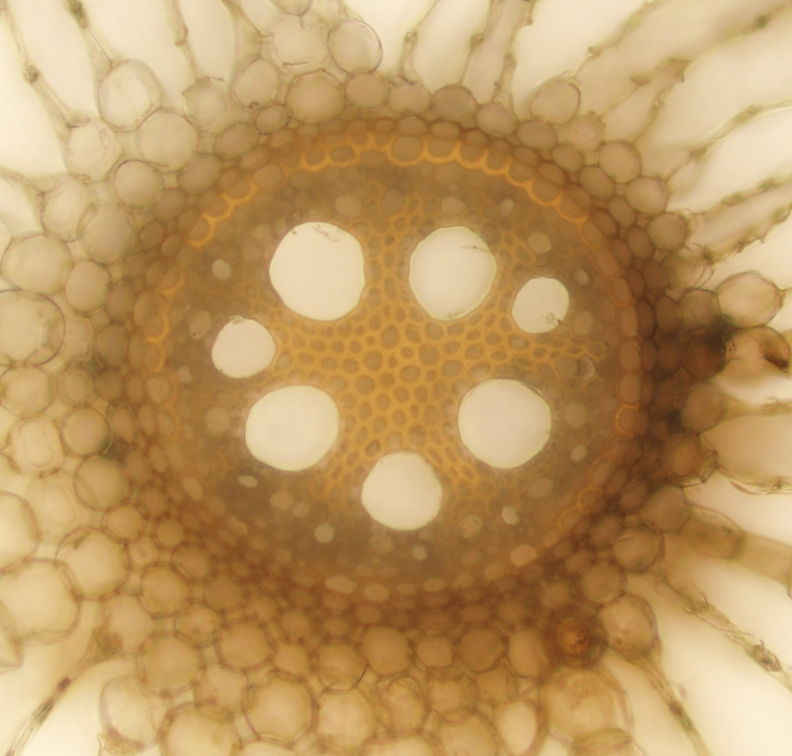lm: (268, 221, 365, 322), (457, 378, 551, 470), (409, 226, 498, 322), (244, 386, 338, 469), (361, 450, 444, 530), (210, 315, 277, 379), (511, 275, 569, 334)
